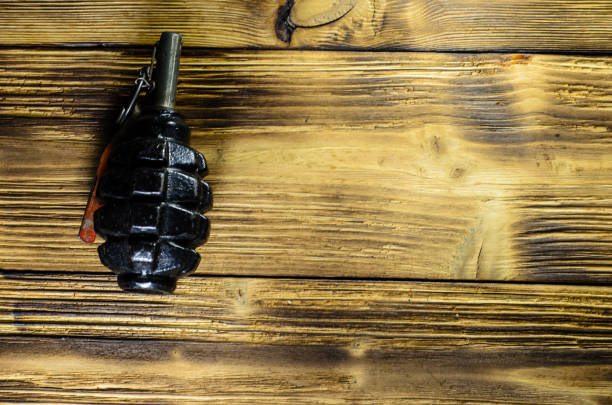e1: (77, 28, 212, 295)
